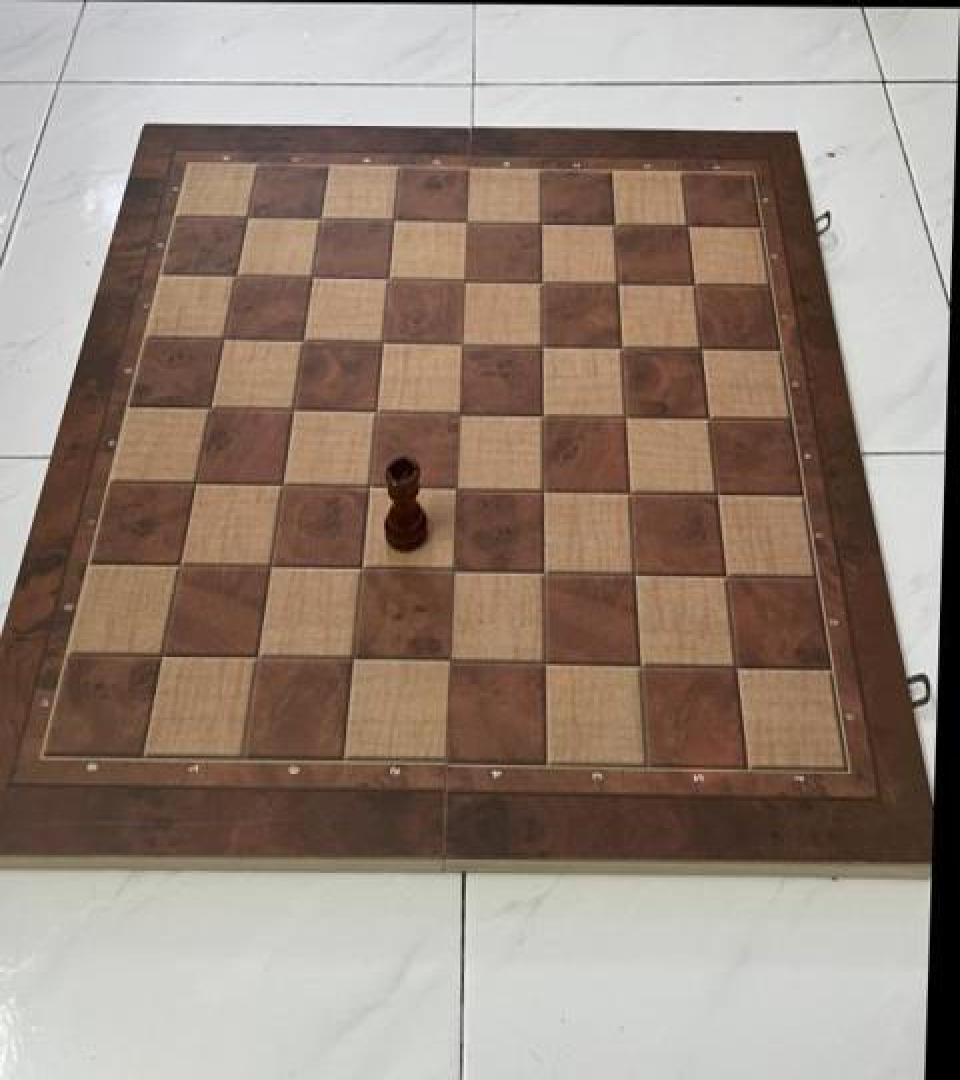xcorner: (231, 200, 265, 239), (305, 201, 339, 240), (378, 202, 412, 241), (430, 642, 464, 681), (451, 205, 485, 243), (525, 206, 559, 244), (598, 207, 632, 245), (671, 208, 705, 246), (220, 259, 254, 297), (296, 260, 330, 298), (372, 261, 406, 299), (448, 262, 482, 300), (525, 264, 559, 302), (601, 266, 635, 304), (677, 267, 711, 305), (207, 322, 241, 360), (286, 323, 320, 361), (366, 324, 400, 362), (445, 326, 479, 364), (525, 328, 559, 366), (604, 328, 638, 366), (684, 331, 718, 369), (193, 390, 227, 428), (276, 392, 310, 430), (359, 393, 393, 431), (442, 395, 476, 433), (525, 396, 559, 434), (608, 397, 642, 435), (691, 400, 725, 438), (178, 465, 212, 503), (265, 467, 299, 505), (352, 468, 386, 506), (438, 469, 472, 507), (525, 472, 559, 510), (612, 472, 646, 510), (698, 475, 732, 513), (162, 547, 196, 585), (253, 549, 287, 587), (344, 550, 378, 588), (434, 552, 468, 590), (525, 554, 559, 592), (616, 555, 650, 593), (707, 557, 741, 595), (144, 637, 178, 675), (239, 639, 273, 677), (335, 640, 369, 678), (525, 644, 559, 682), (621, 646, 655, 684), (716, 647, 750, 685)
